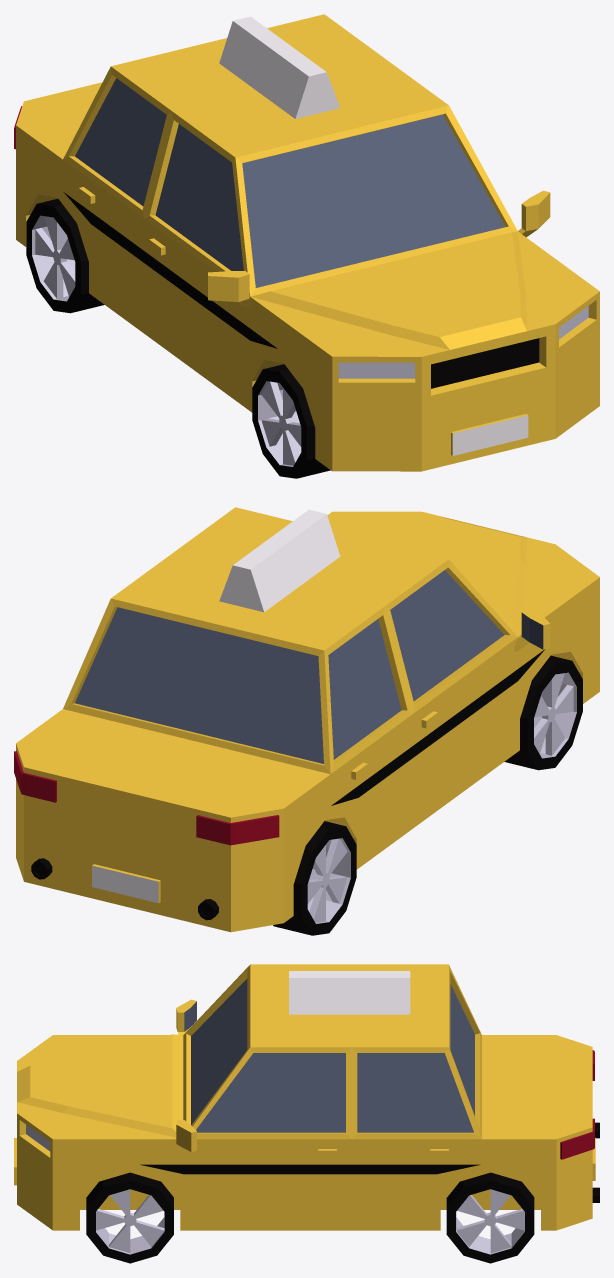
The model's file is taxi.glb.
3 views of the same model, one above another, from view 1: azimuth 30°, elevation 25°; view 2: azimuth 150°, elevation 25°; view 3: azimuth 270°, elevation 25° (orthographic). The views are drawn at different scales.
Parts seen in each view (by area): view 1: Taxi, Taxi wheel front right, Taxi wheel rear right; view 2: Taxi, Taxi wheel rear right, Taxi wheel front right; view 3: Taxi, Taxi wheel rear left, Taxi wheel front left.
Boxes of the visible parts, x1=… form: Taxi: x1=14, y1=14, x2=599, y2=471; Taxi wheel front right: x1=252, y1=364, x2=330, y2=478; Taxi wheel rear right: x1=26, y1=198, x2=104, y2=313; Taxi: x1=14, y1=507, x2=599, y2=932; Taxi wheel rear right: x1=273, y1=821, x2=356, y2=935; Taxi wheel front right: x1=504, y1=655, x2=582, y2=770; Taxi: x1=14, y1=964, x2=599, y2=1230; Taxi wheel rear left: x1=446, y1=1172, x2=534, y2=1263; Taxi wheel front left: x1=86, y1=1172, x2=173, y2=1263.
Size of the model in its own units: 2.81 by 2.32 by 5.23.
